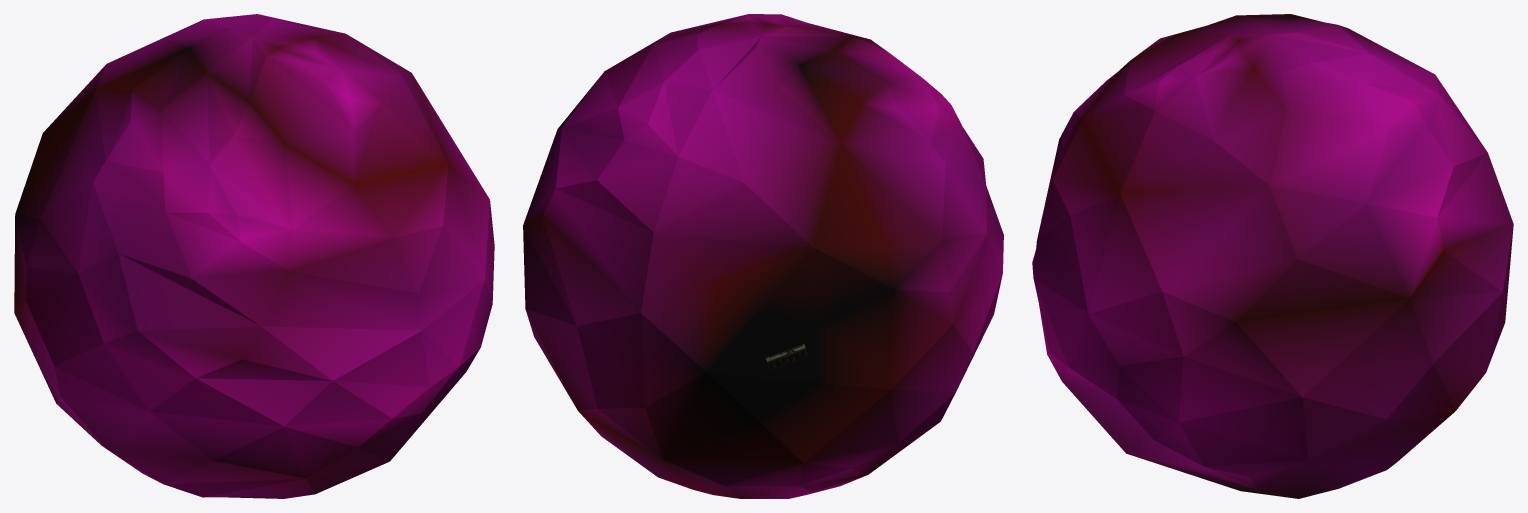
The picture shows the model from 3 angles, left to right: view 1: azimuth 30°, elevation 25°; view 2: azimuth 150°, elevation 25°; view 3: azimuth 270°, elevation 25°; orthographic projection.
Parts seen in each view (by area): view 1: part3; view 2: part3, part1; view 3: part3.
Part boxes in pixels (x1,y1,x2,y2): part3: [14, 14, 494, 498]; part3: [523, 14, 1003, 498]; part1: [765, 344, 808, 370]; part3: [1032, 14, 1513, 498].
Bounding box in the file's own units: 12.82 × 13.03 × 12.81.
38 materials, 36 textured.
